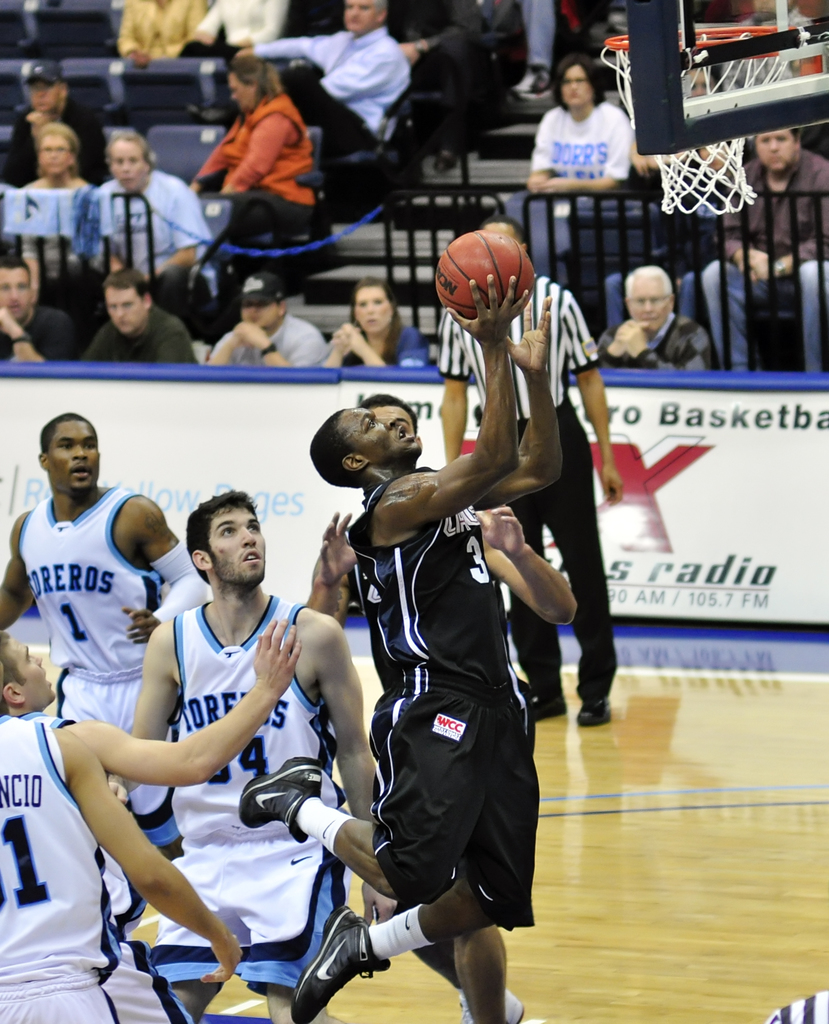Ball: (436, 232, 536, 321)
